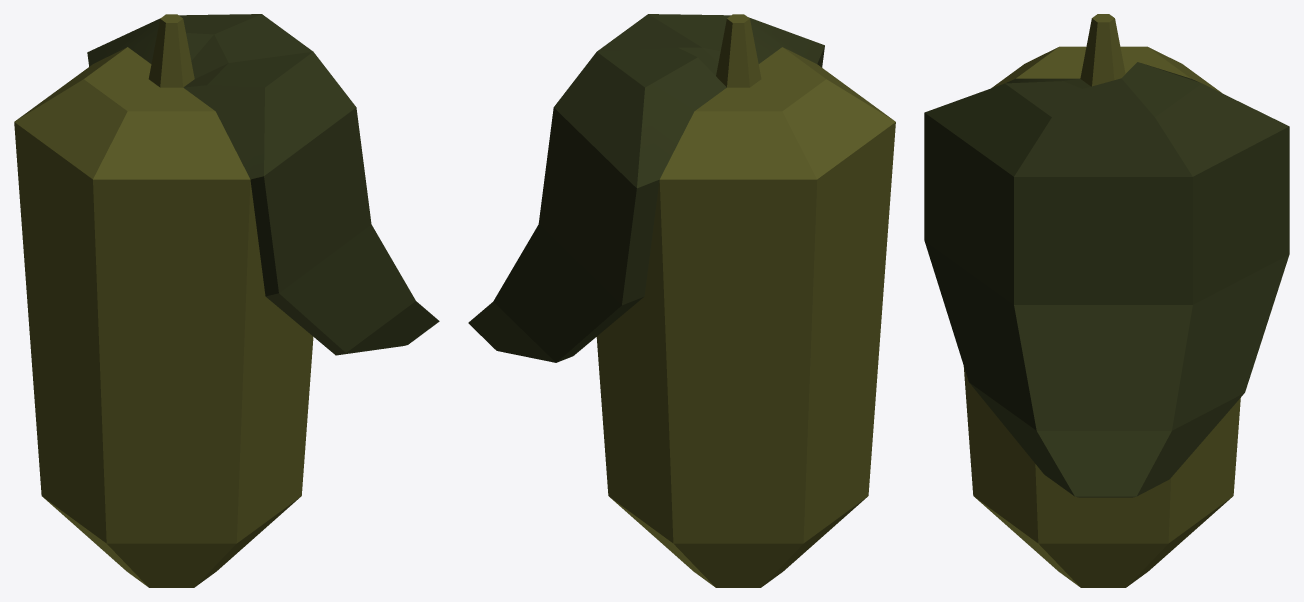
3 renders of one model, left to right at view 1: azimuth 30°, elevation 25°; view 2: azimuth 150°, elevation 25°; view 3: azimuth 270°, elevation 25°, orthographic.
Parts seen in each view (by area): view 1: 玉米_pCylinder4; view 2: 玉米_pCylinder4; view 3: 玉米_pCylinder4.
Boxes of the visible parts, x1,y1,x2,y2 form: 玉米_pCylinder4: [14, 14, 439, 587]; 玉米_pCylinder4: [468, 14, 895, 587]; 玉米_pCylinder4: [924, 14, 1289, 587].
Size of the model in its own units: 17 by 14.43 by 24.14.
